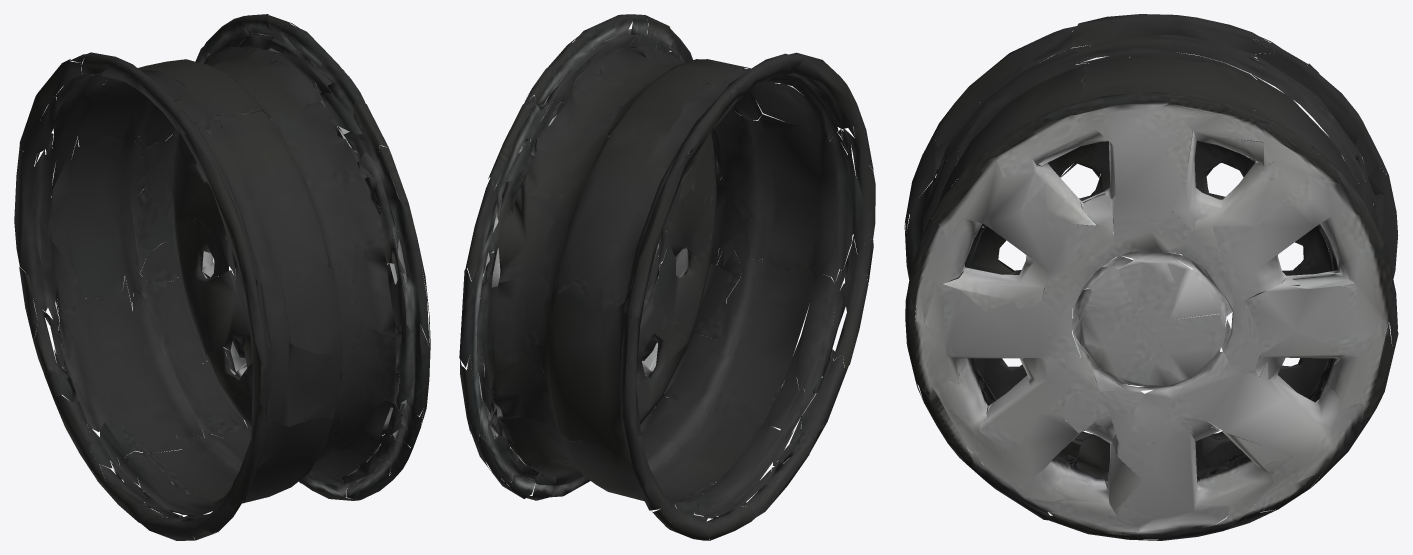
File: felda_rim.glb
3 views of the same model, side by side, from view 1: azimuth 30°, elevation 25°; view 2: azimuth 150°, elevation 25°; view 3: azimuth 270°, elevation 25° (orthographic).
Visible parts, largest first — view 1: tripo_node_e3605524-c5e3-4642-b230-cd6aa20c5d5f; view 2: tripo_node_e3605524-c5e3-4642-b230-cd6aa20c5d5f; view 3: tripo_node_e3605524-c5e3-4642-b230-cd6aa20c5d5f.
Part boxes in pixels (x1,y1,x2,y2): tripo_node_e3605524-c5e3-4642-b230-cd6aa20c5d5f: [14, 14, 430, 540]; tripo_node_e3605524-c5e3-4642-b230-cd6aa20c5d5f: [459, 14, 875, 540]; tripo_node_e3605524-c5e3-4642-b230-cd6aa20c5d5f: [904, 14, 1398, 540].
Bounding box in the file's own units: 0.4276 × 1 × 0.9969.
1 material, 1 textured.
